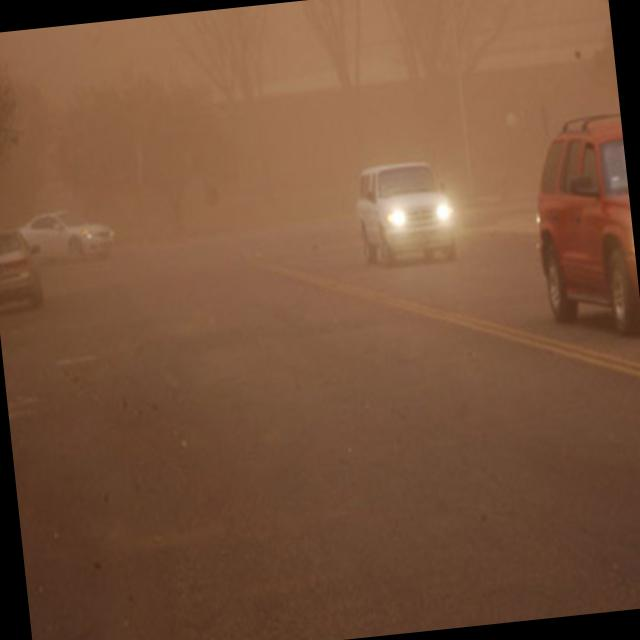car: (517, 113, 640, 349), (349, 155, 459, 269), (24, 208, 112, 264), (0, 226, 49, 318)
